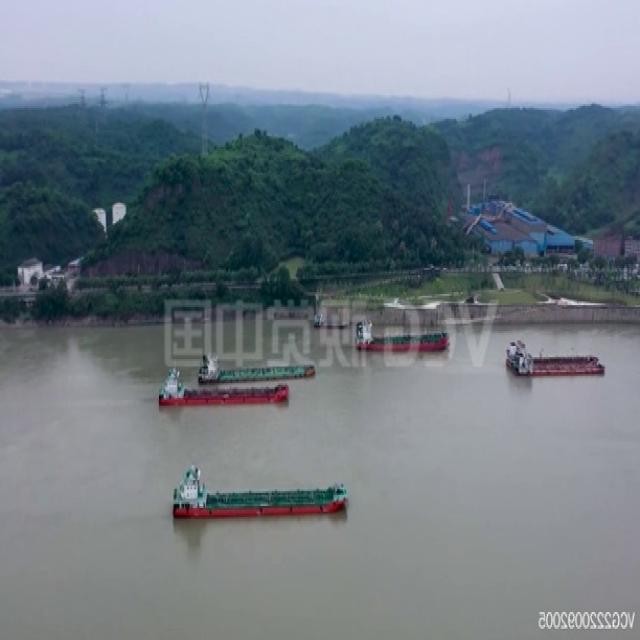cargoship: (170, 458, 348, 519), (156, 368, 288, 412), (198, 348, 320, 383), (357, 316, 454, 357), (506, 339, 606, 378), (313, 310, 350, 328)
